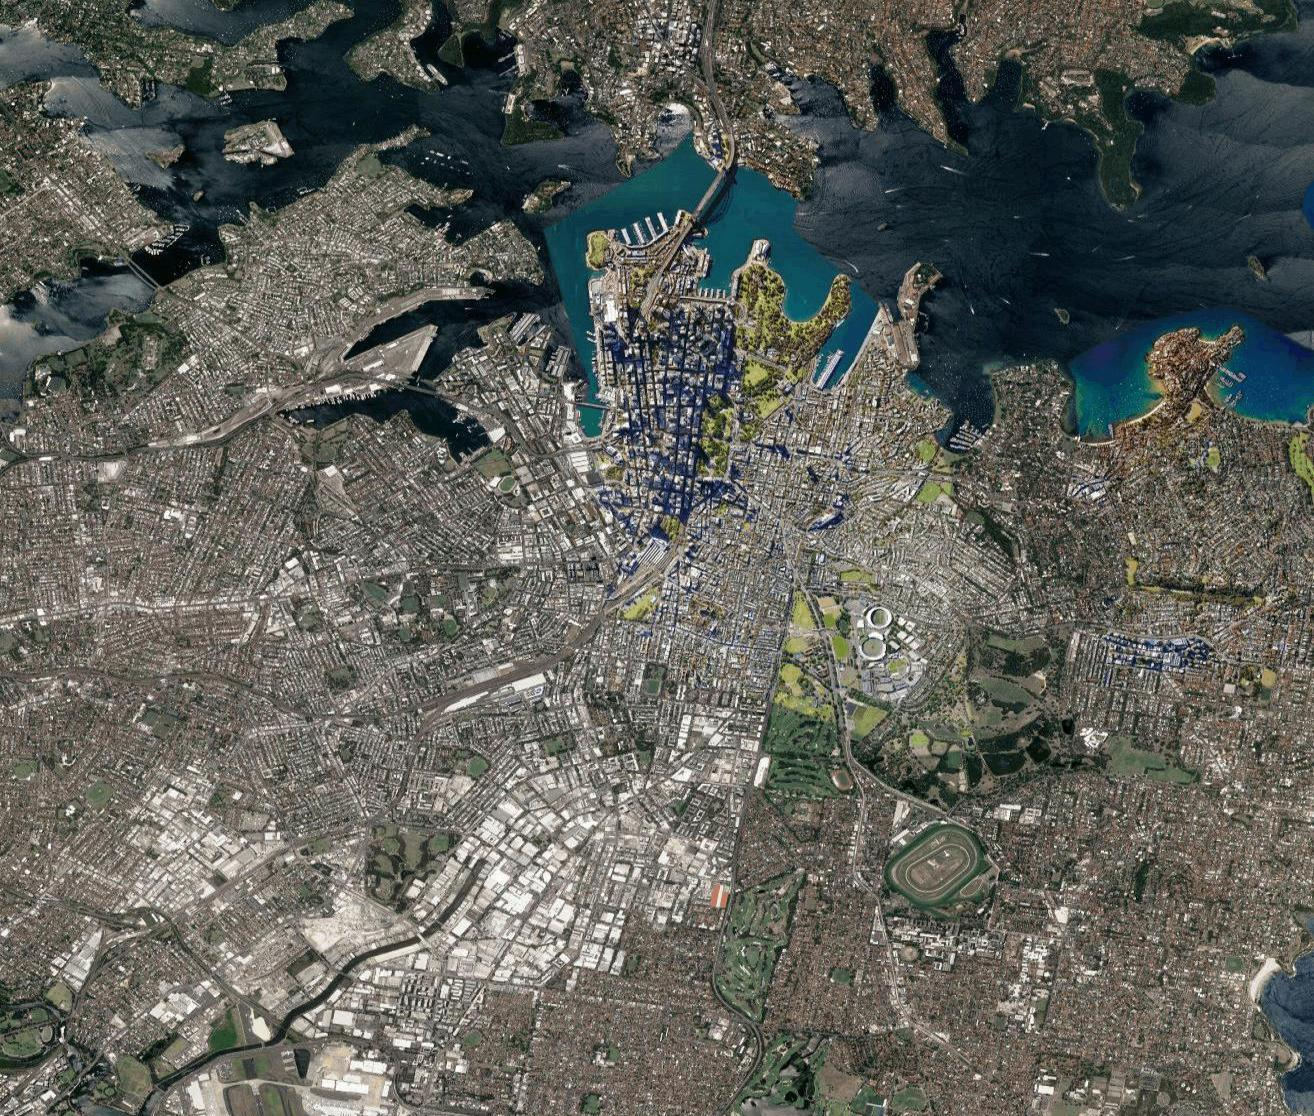bridge: (693, 165, 727, 215), (122, 252, 161, 294), (399, 380, 442, 399), (573, 397, 611, 413)
industrial: (445, 806, 614, 988)
train_station: (637, 530, 673, 575)
